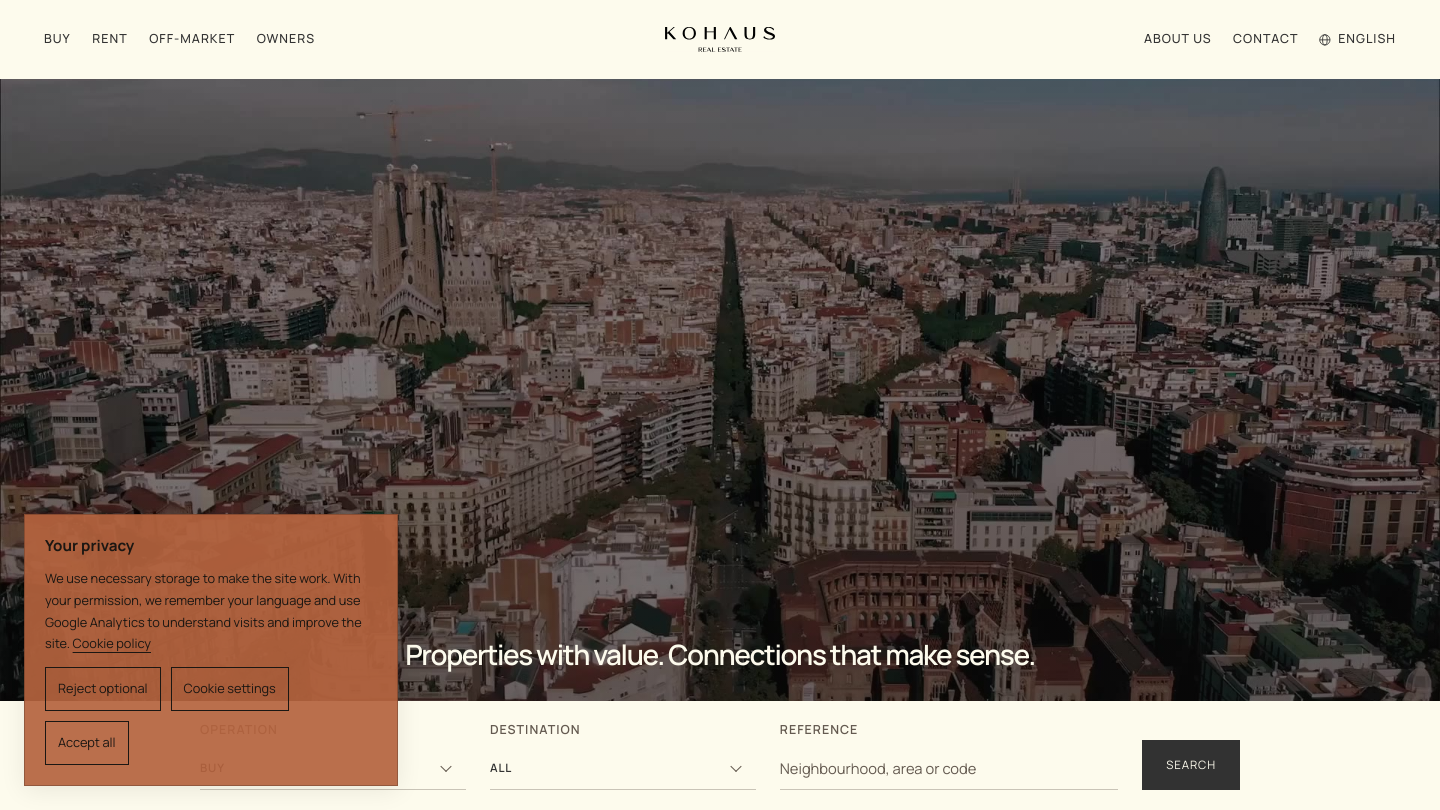
Scenario: KOHAUS app regressions › opens the owner form from the header shortcut and keeps navigation concise
Expected: the button with aria-label "Language" reads "English", x1=1318 y1=30 x2=1396 y2=49
Click the link "Owners": (286, 39) x1=257 y1=30 x2=315 y2=49
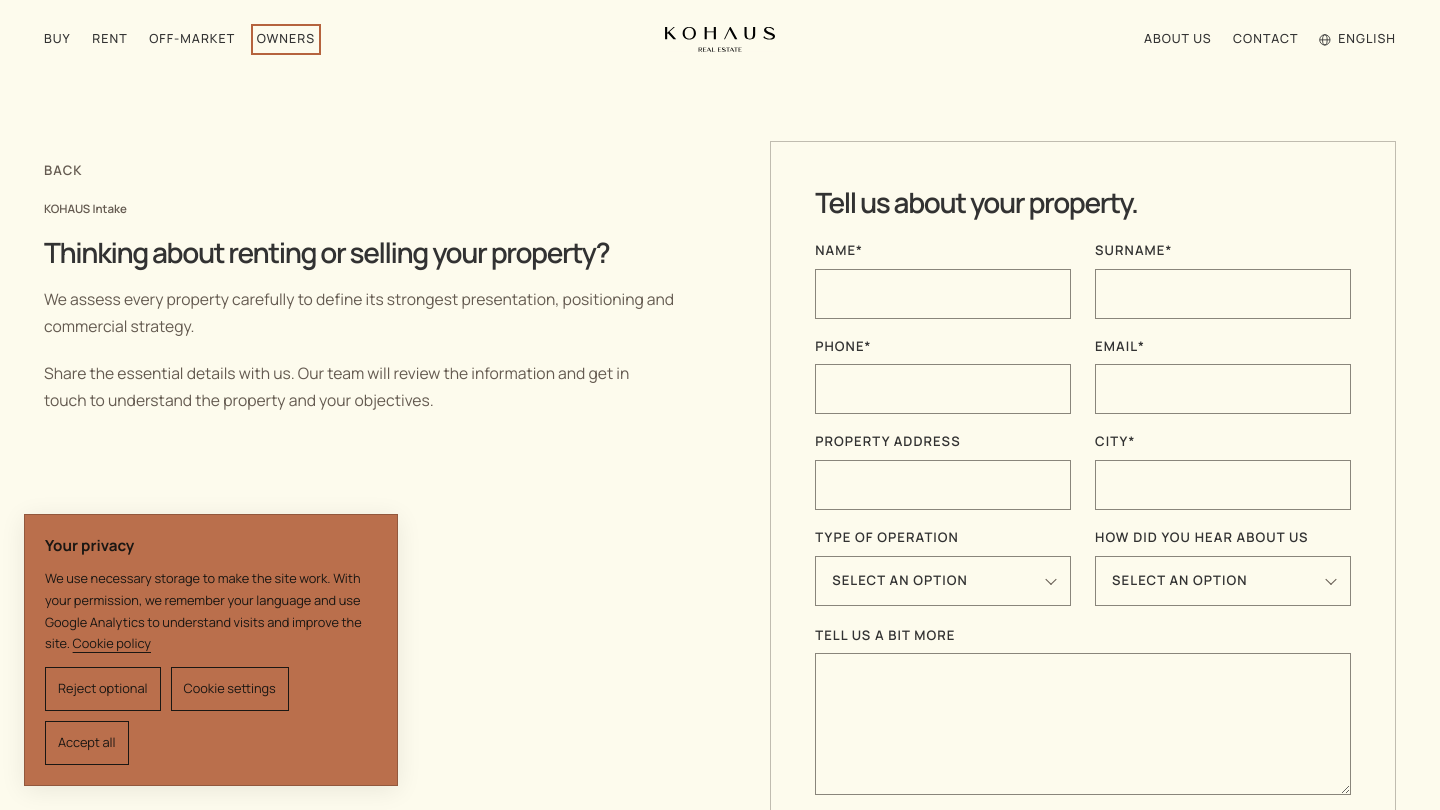
Expected: the heading "Thinking about renting or selling your property?" is shown, x1=44 y1=238 x2=698 y2=266
Expected: the button with aria-label "Type of operation" reads "Select an option", x1=815 y1=556 x2=1071 y2=606
Expected: the button with aria-label "How did you hear about us" reads "Select an option", x1=1095 y1=556 x2=1351 y2=606
